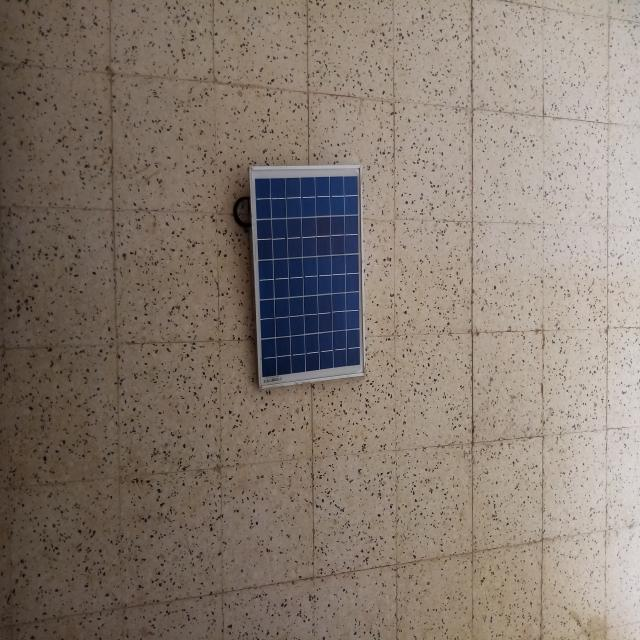no faulty: (249, 166, 367, 388)
